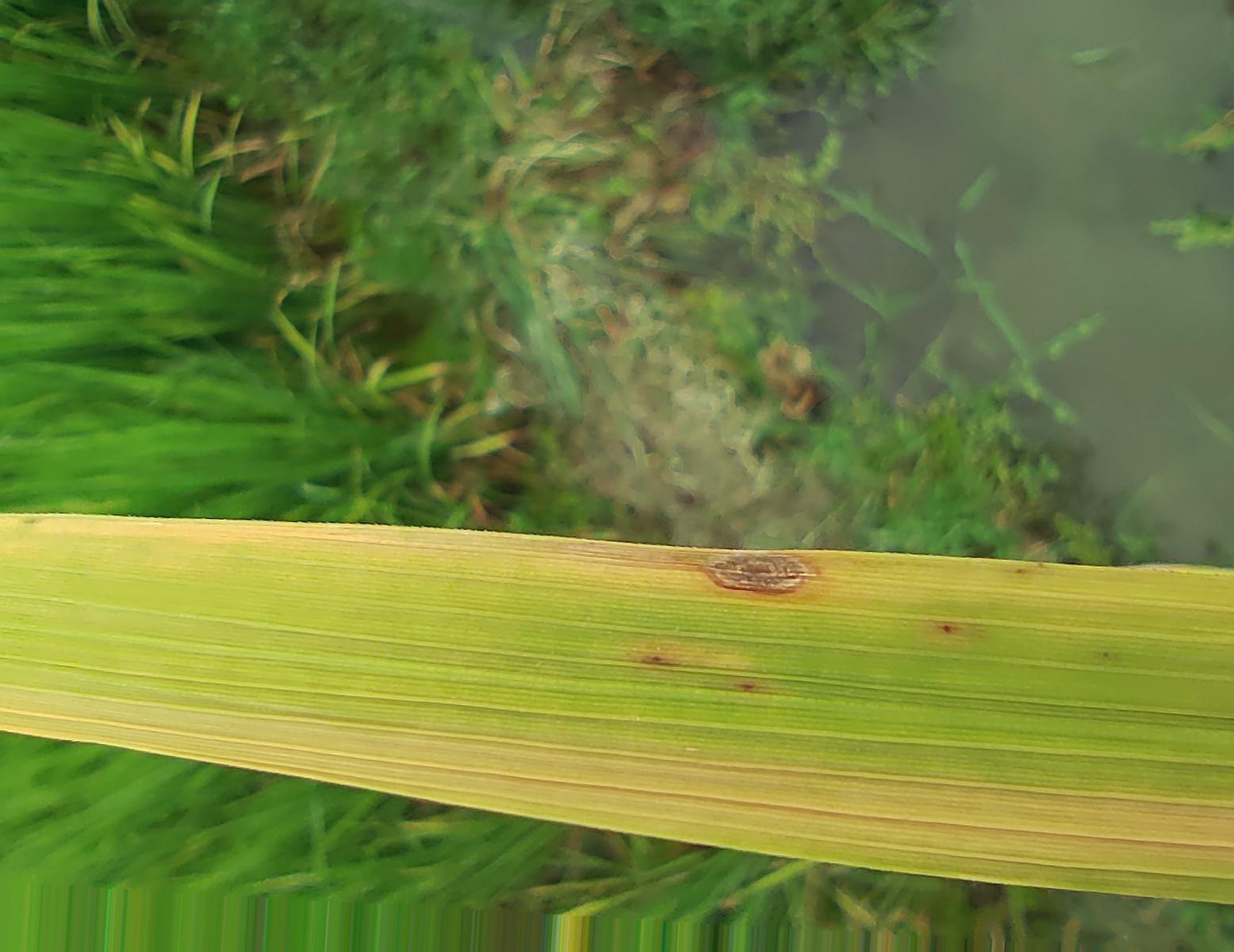LEAF: (0, 513, 1233, 901)
NBS: (642, 654, 673, 666), (739, 682, 757, 692), (942, 624, 955, 632), (1099, 651, 1113, 658), (1017, 568, 1026, 573)
